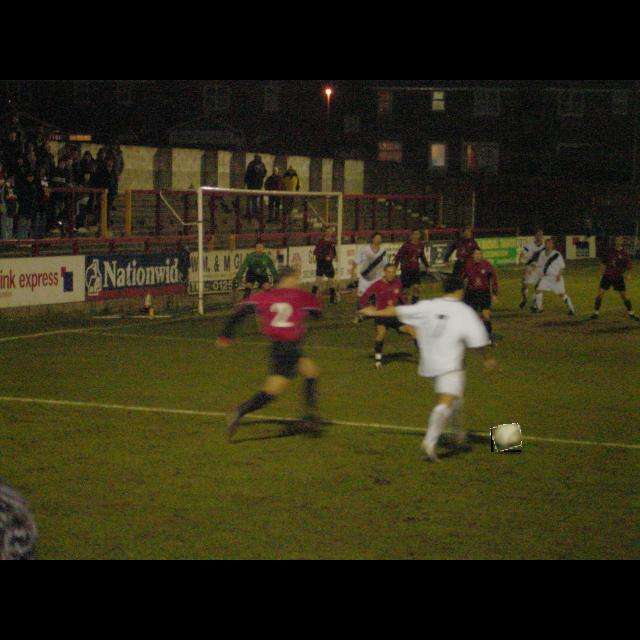Football: (491, 424, 521, 452)
